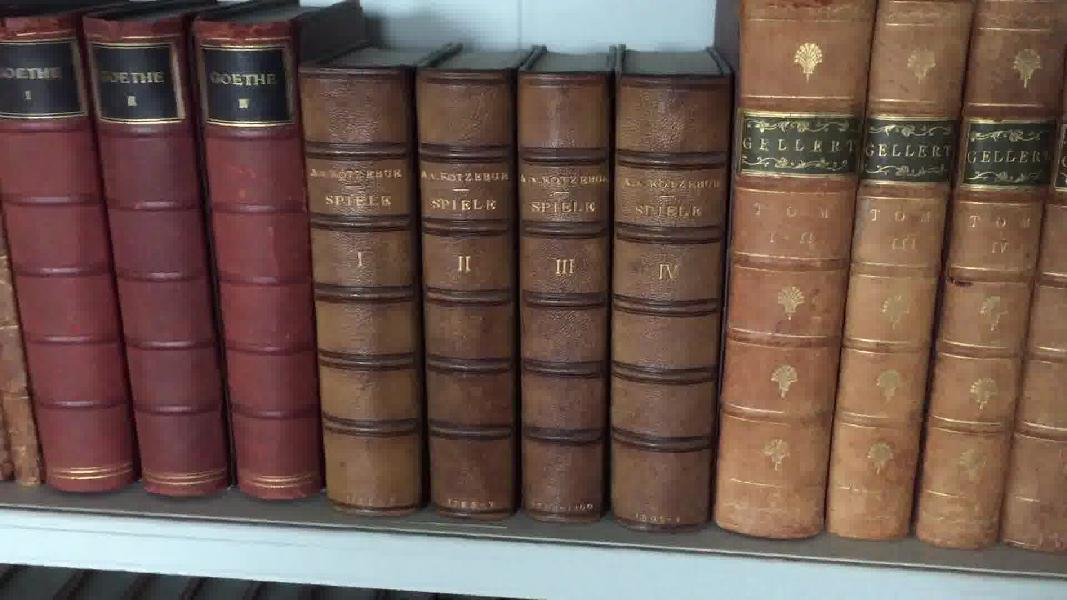Aa6-11_13: (2, 8, 324, 502)
Aa6-14_17: (293, 57, 731, 532)
Aa6-18_23: (729, 1, 1067, 533)
